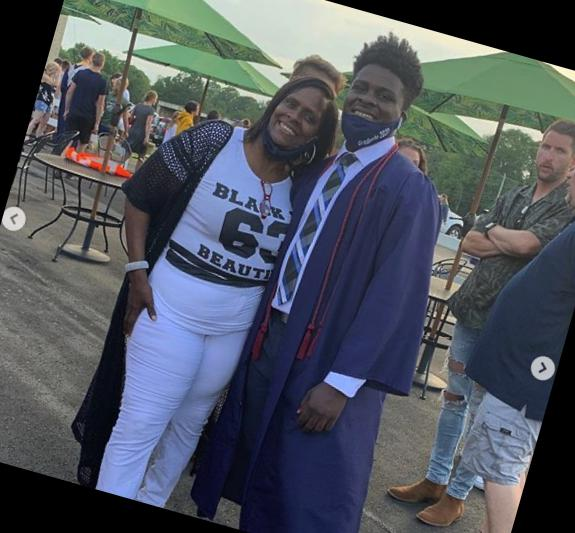mask_weared_incorrect: (331, 70, 407, 146), (265, 88, 328, 163)
without_mask: (529, 134, 575, 186), (562, 149, 575, 209)
